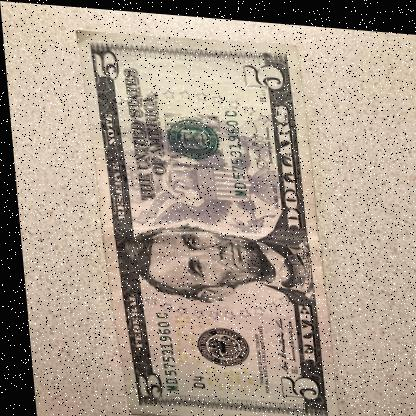five-front: (74, 26, 334, 416)
